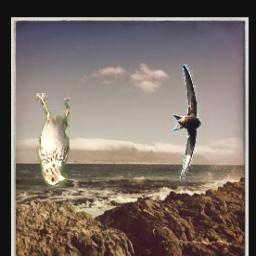Sparrow: (36, 93, 70, 187)
Swallow: (173, 64, 202, 179)
